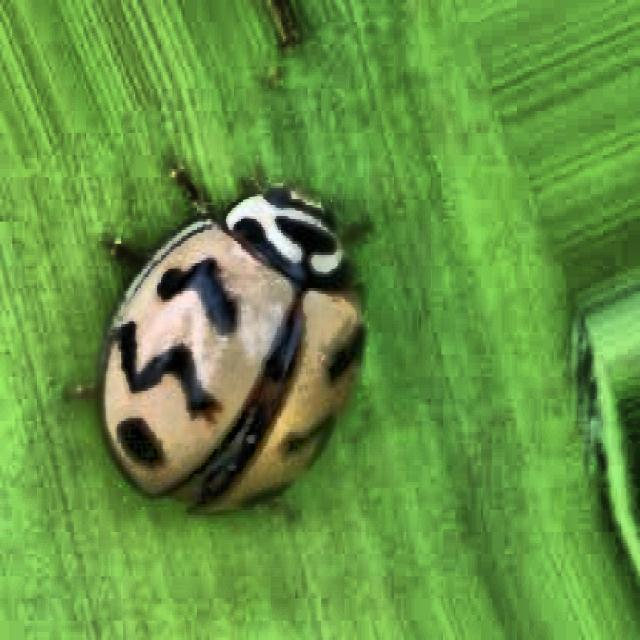Asian-Lady-beetle: (52, 128, 400, 589)
